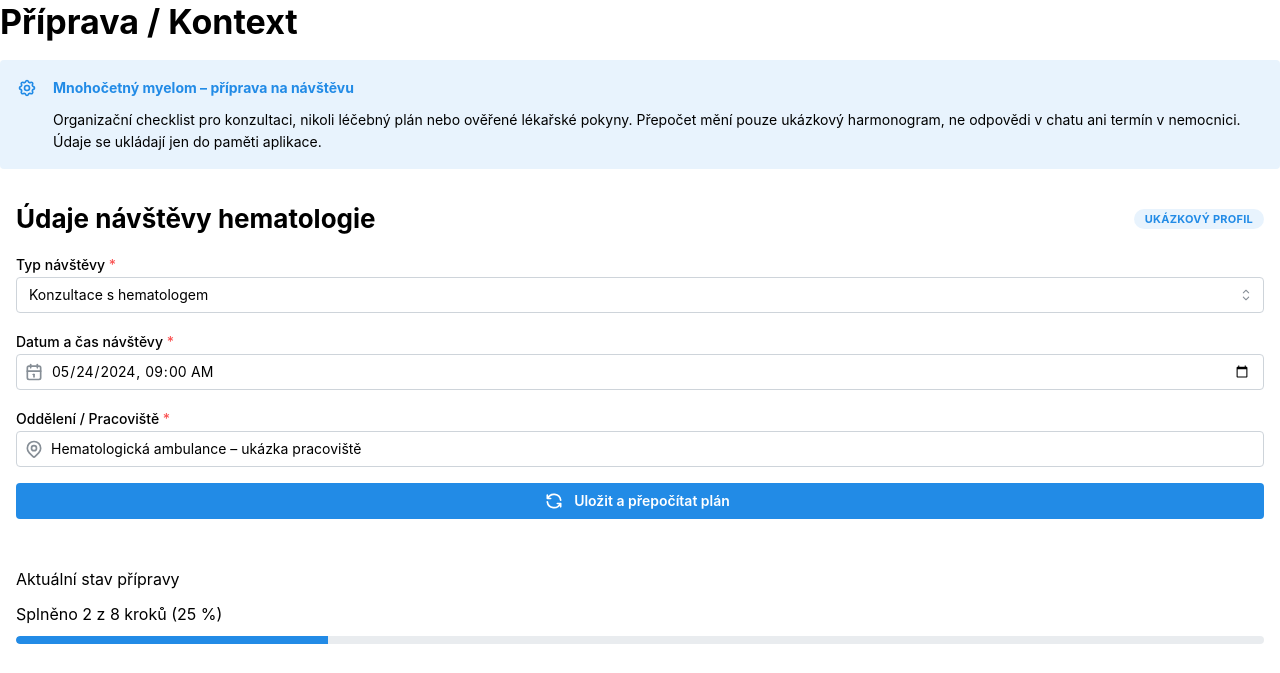
it: preparation page › shows an explicit unavailable state for other procedures
Select "Návštěva v rámci léčby myelomu" in the dropdown: coordinates (640, 295) [16,277,1264,313]
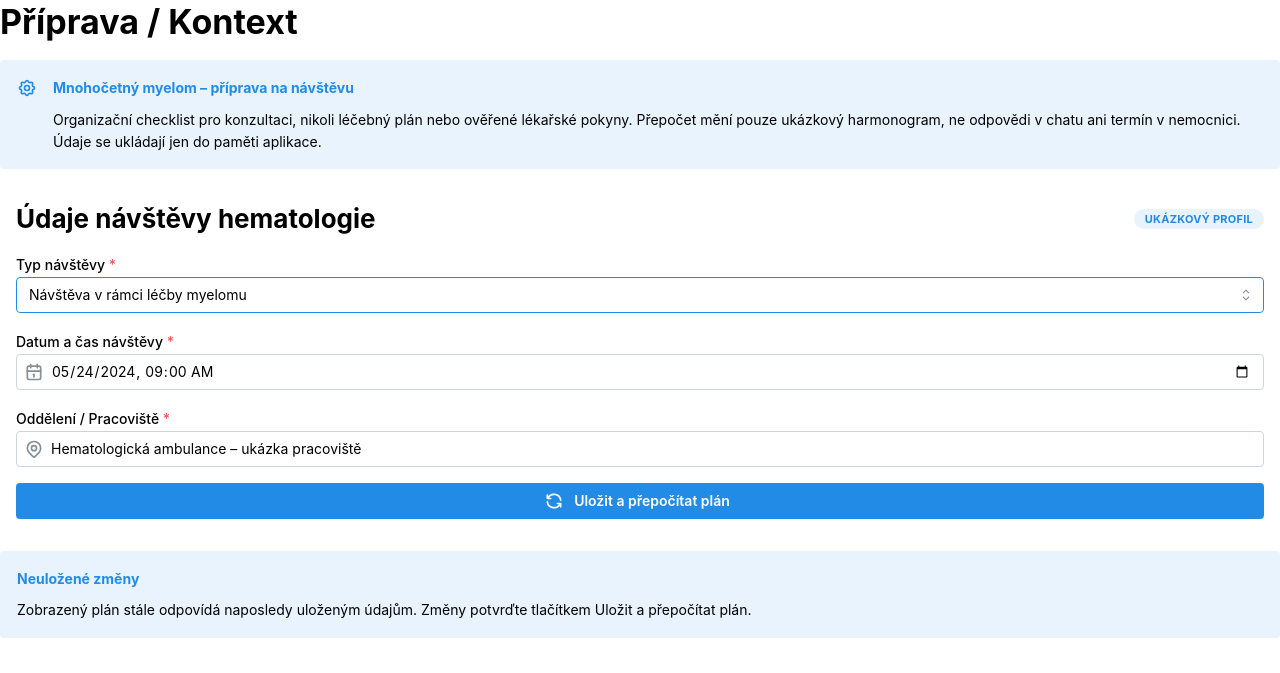
Click the button with aria-label "Uložit zadané údaje a přepočítat plán": coordinates (640, 501) [16,483,1264,519]
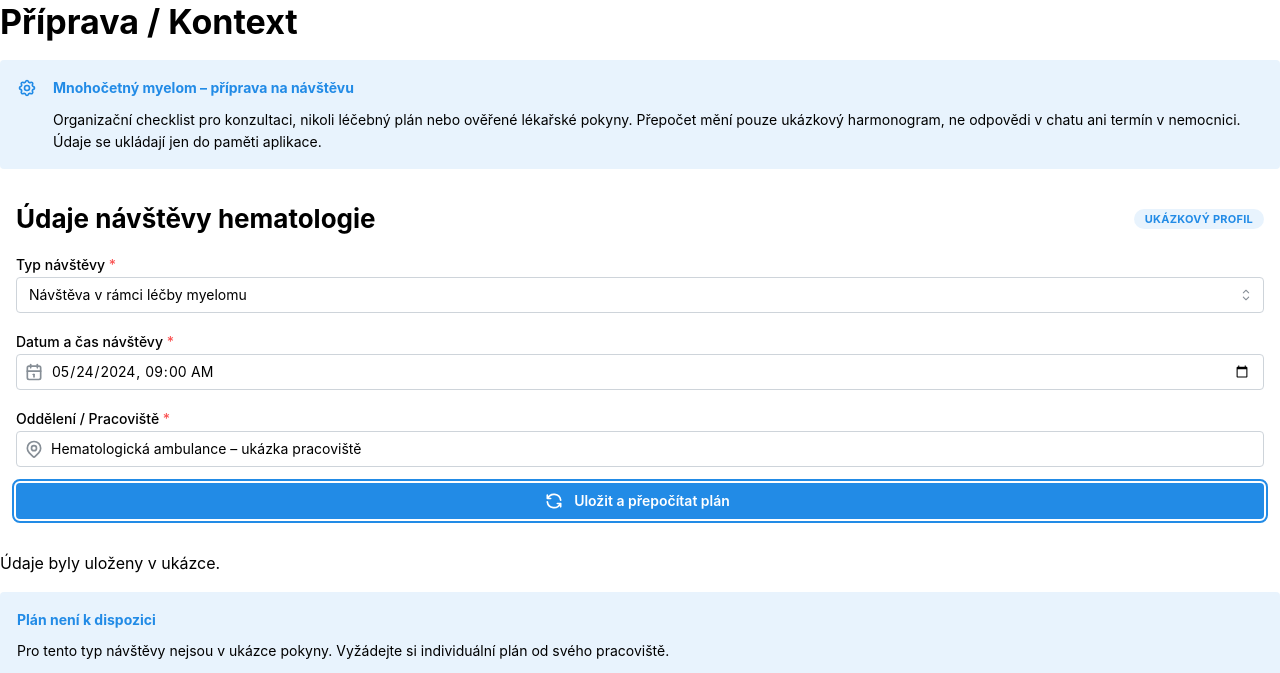
Expected: the text "Plán není k dispozici" is shown, [17,608,156,630]
